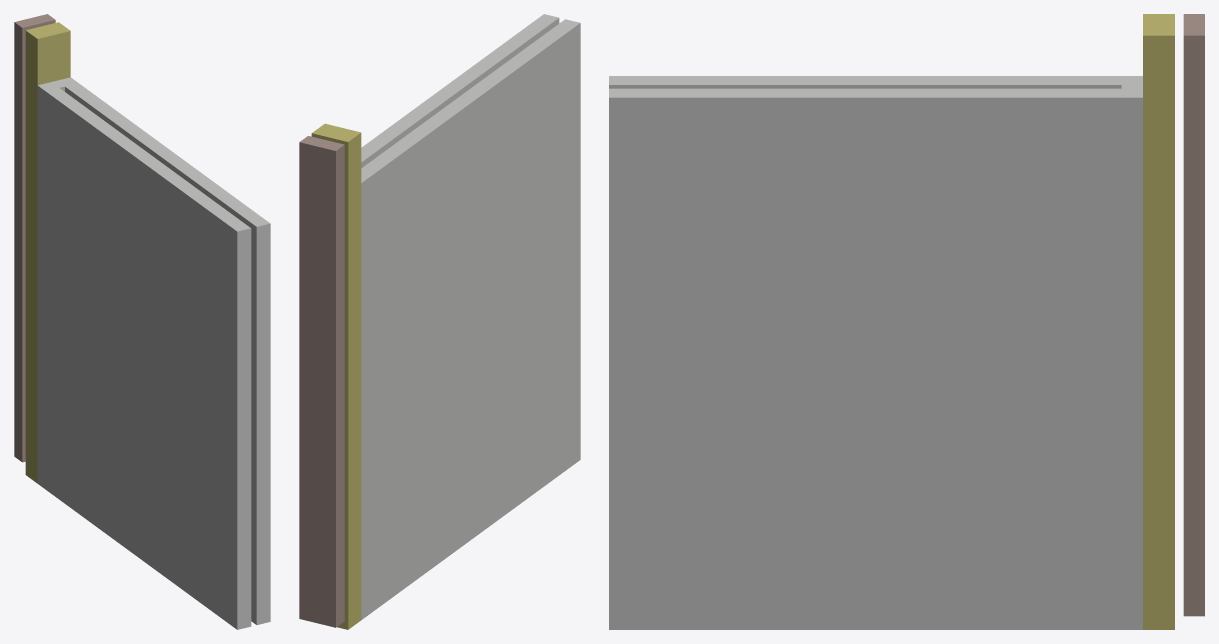
3 renders of one model, left to right at view 1: azimuth 30°, elevation 25°; view 2: azimuth 150°, elevation 25°; view 3: azimuth 270°, elevation 25°, orthographic. The views are drawn at different scales.
Parts seen in each view (by area): view 1: [3322545]21_kalkzandsteen_100, [3322547]21_kalkzandsteen_100, [3322542]21_isolatie_mineraal_150, [3322541]21_metselwerk_oranje_100, [3322543]21_kalkzandsteen_100; view 2: [3322545]21_kalkzandsteen_100, [3322541]21_metselwerk_oranje_100, [3322542]21_isolatie_mineraal_150, [3322547]21_kalkzandsteen_100, [3322543]21_kalkzandsteen_100; view 3: [3322547]21_kalkzandsteen_100, [3322542]21_isolatie_mineraal_150, [3322541]21_metselwerk_oranje_100, [3322543]21_kalkzandsteen_100, [3322545]21_kalkzandsteen_100.
Part boxes in pixels (bbox=[...]): [3322545]21_kalkzandsteen_100: bbox=[45, 88, 251, 629]; [3322547]21_kalkzandsteen_100: bbox=[65, 83, 270, 624]; [3322542]21_isolatie_mineraal_150: bbox=[25, 22, 70, 483]; [3322541]21_metselwerk_oranje_100: bbox=[14, 14, 55, 462]; [3322543]21_kalkzandsteen_100: bbox=[37, 77, 78, 489]; [3322545]21_kalkzandsteen_100: bbox=[361, 19, 580, 613]; [3322541]21_metselwerk_oranje_100: bbox=[299, 136, 344, 627]; [3322542]21_isolatie_mineraal_150: bbox=[311, 123, 361, 629]; [3322547]21_kalkzandsteen_100: bbox=[361, 14, 559, 167]; [3322543]21_kalkzandsteen_100: bbox=[361, 175, 369, 619]; [3322547]21_kalkzandsteen_100: bbox=[609, 88, 1121, 629]; [3322542]21_isolatie_mineraal_150: bbox=[1143, 14, 1174, 629]; [3322541]21_metselwerk_oranje_100: bbox=[1183, 14, 1204, 616]; [3322543]21_kalkzandsteen_100: bbox=[1121, 76, 1142, 629]; [3322545]21_kalkzandsteen_100: bbox=[609, 76, 1121, 88].
Size of the model in its own units: 0.24 by 3.07 by 2.79.
